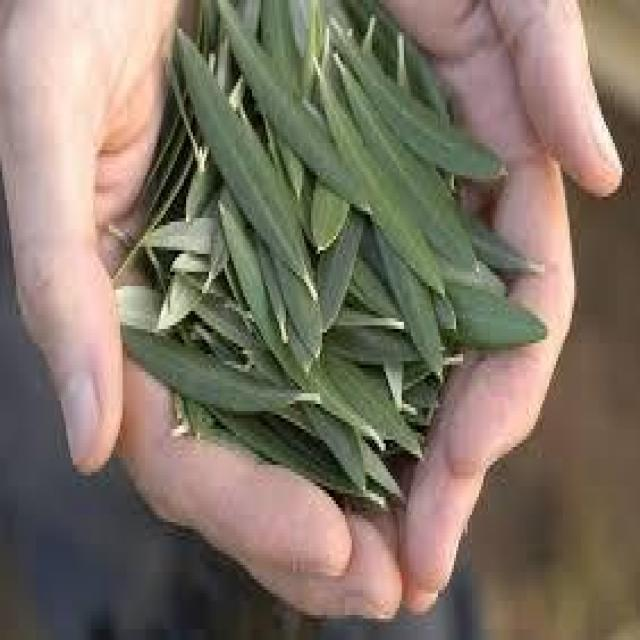Healthy: (182, 39, 297, 265), (220, 11, 359, 197), (320, 72, 438, 286), (125, 329, 315, 408)
